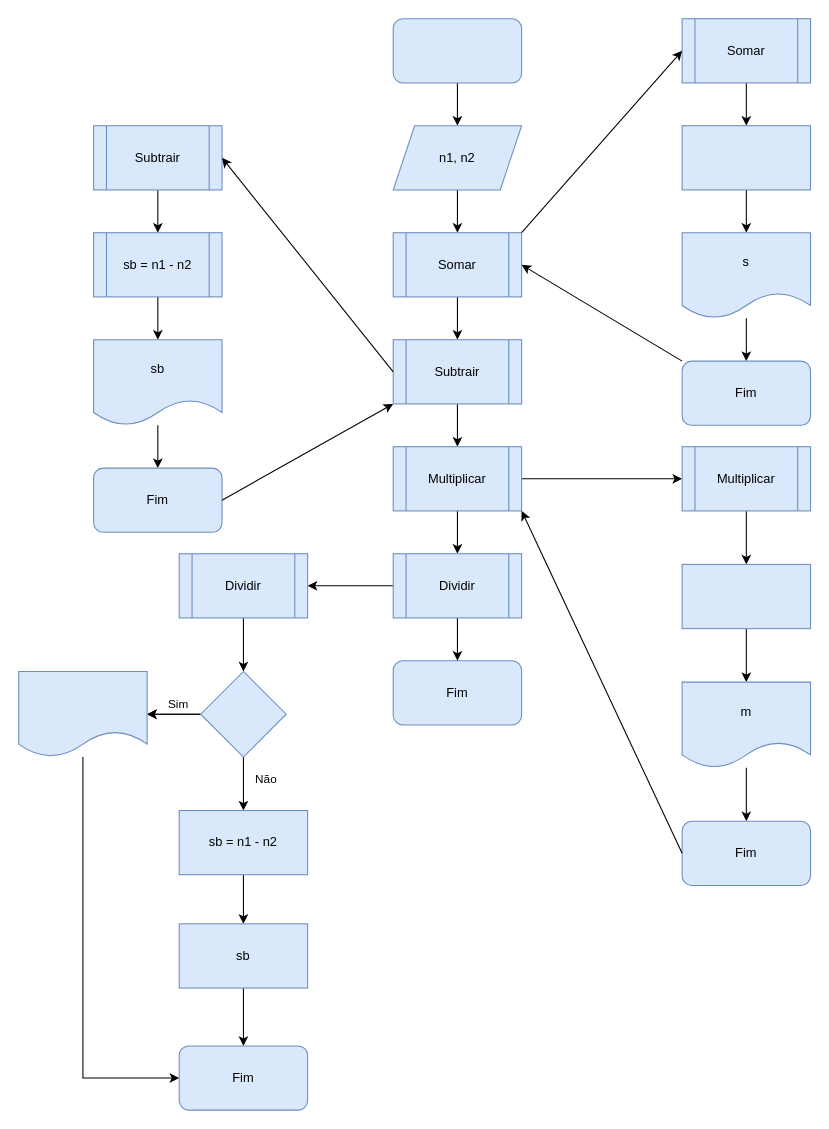
Image size: 829x1129. Some labels were removed from this diagram. The box of each missing label's shape, as (x1, y1, x2, y2) in pixels:
Impossível dividir por 0: (18, 670, 147, 757)
Início: (392, 18, 522, 83)
m = n1 * n2: (681, 563, 811, 629)
n2 = 0: (200, 670, 286, 757)
s = n1 +n2: (681, 125, 811, 190)
